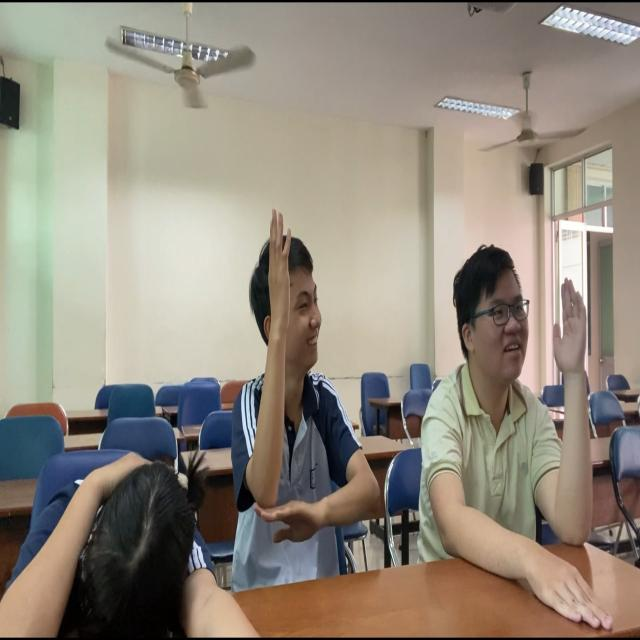raise_hand: (408, 233, 626, 640), (217, 191, 401, 612)
sleep: (1, 411, 288, 640)
